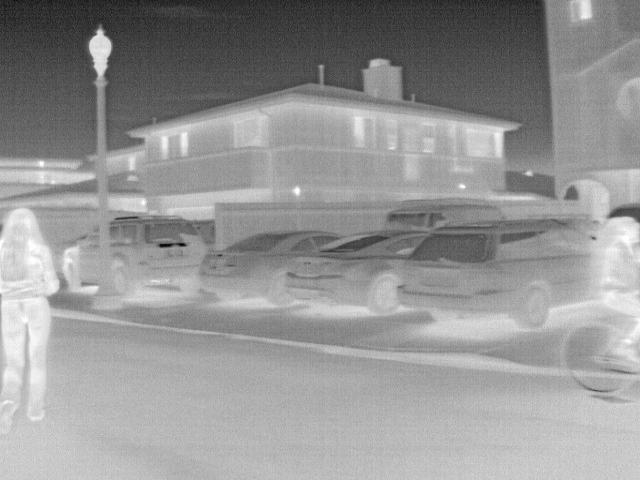car: (396, 220, 600, 328), (285, 230, 433, 314), (200, 233, 348, 305), (109, 214, 208, 294), (384, 197, 510, 235), (60, 227, 96, 294), (192, 218, 215, 252)
person: (1, 206, 64, 438), (591, 214, 639, 368)
